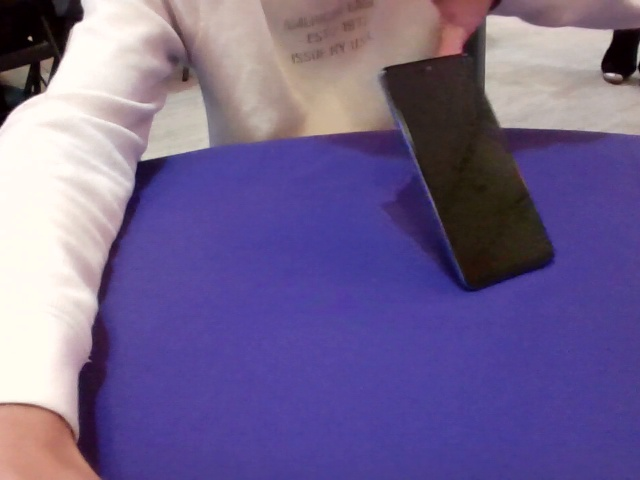celular: (378, 44, 553, 291)
